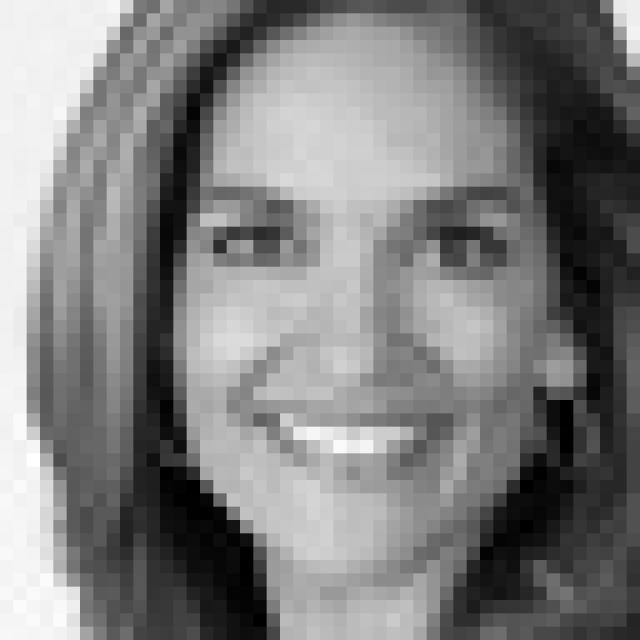happy: (194, 174, 539, 501)
